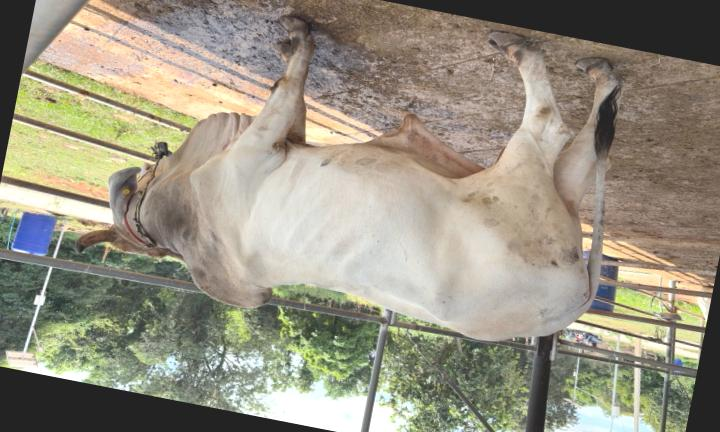Brahman: (76, 16, 623, 340)
